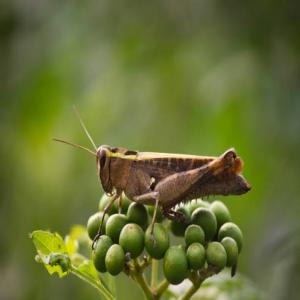locust: (59, 128, 272, 213)
